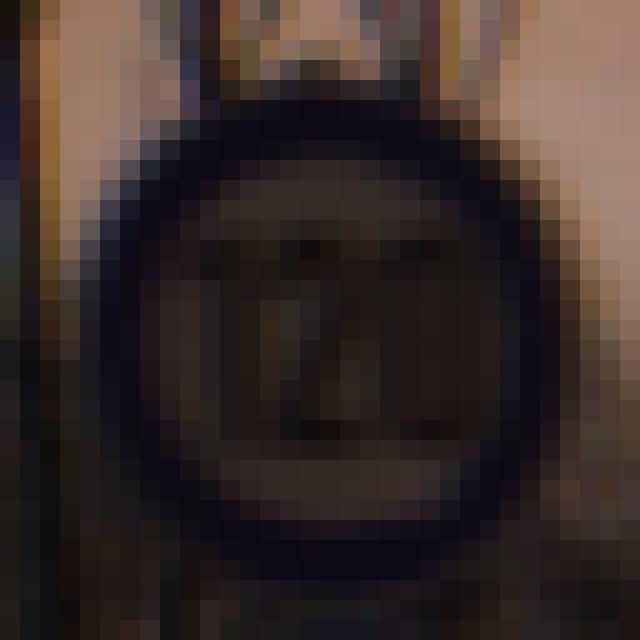SPEED LIMIT 120: (79, 89, 598, 556)
